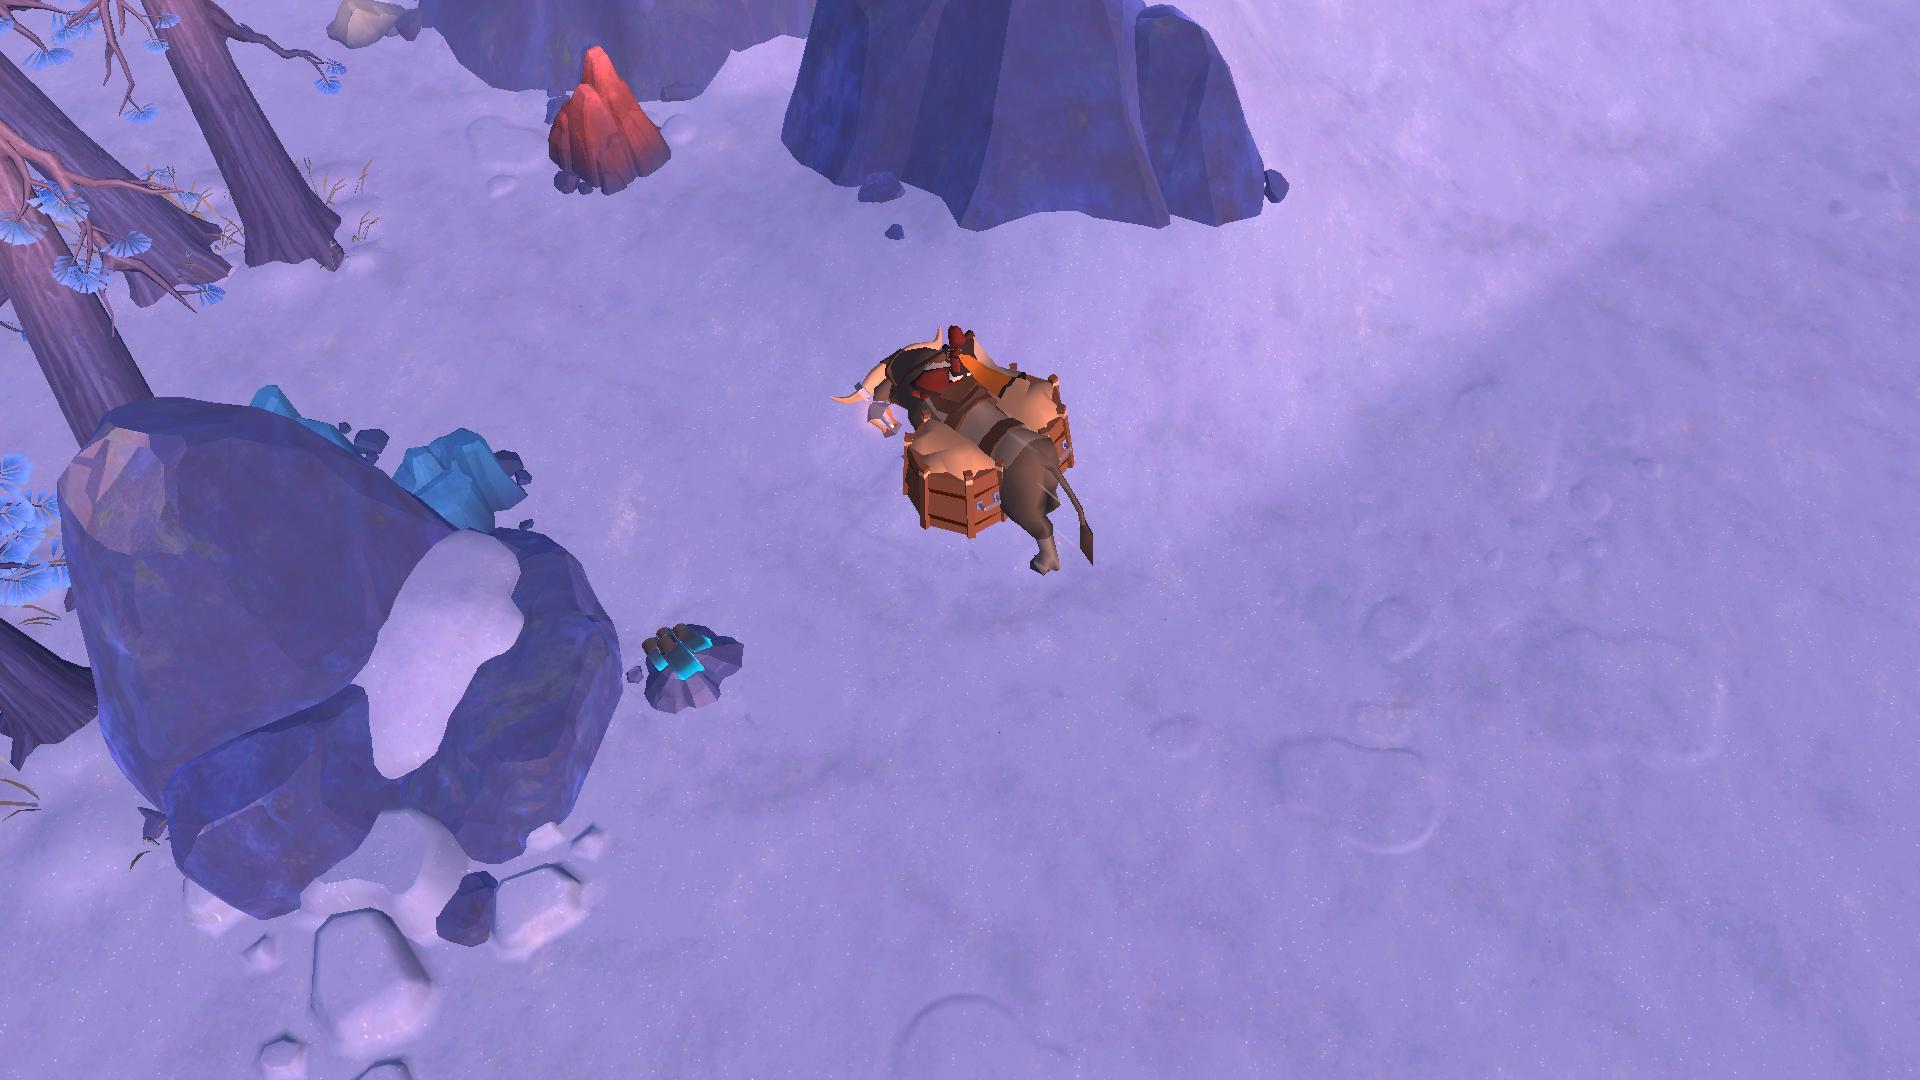ore_t4: (636, 613, 716, 688)
rock_t4: (402, 419, 529, 547), (239, 378, 371, 477)
rock_t5: (538, 45, 675, 193)
